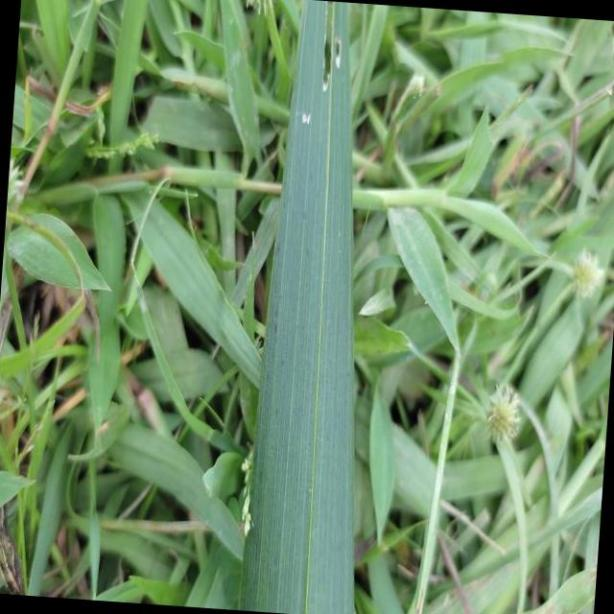Boron: (241, 0, 368, 614)
